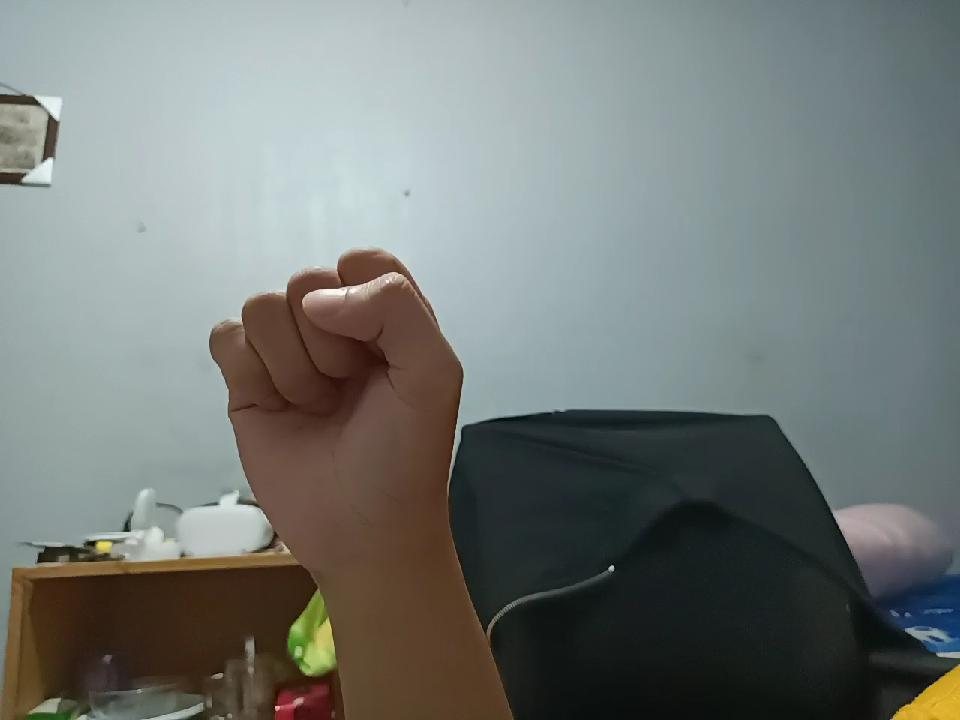rock: (228, 220, 458, 576)
